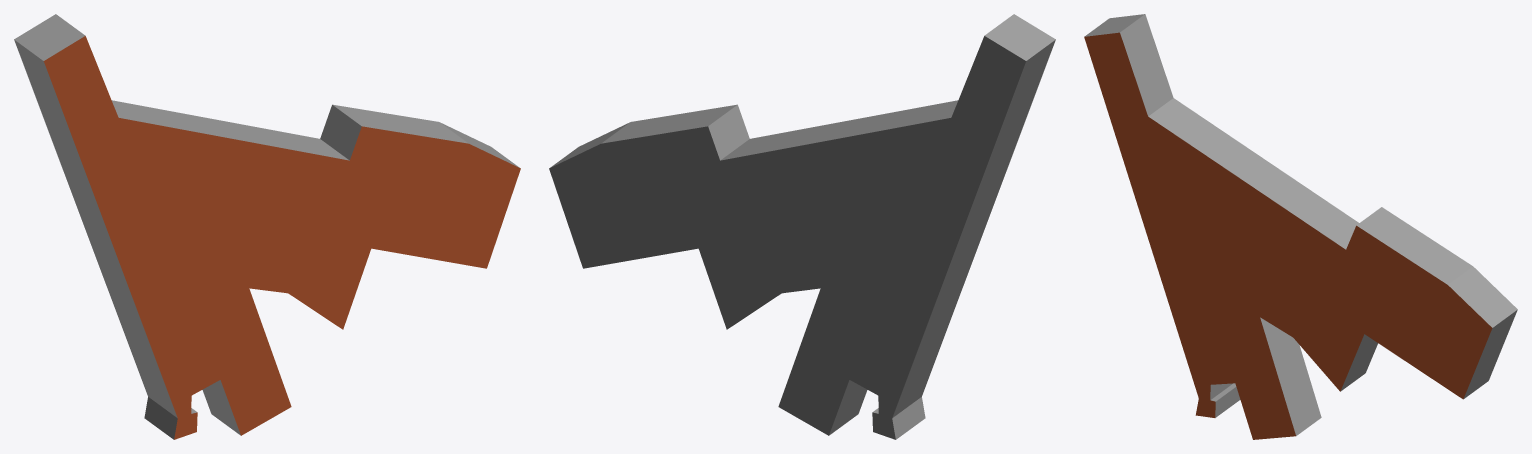
Rendered from construction_2341_assumed_A_Casa_h6m.obj.
The picture shows the model from 3 angles, left to right: view 1: azimuth 30°, elevation 25°; view 2: azimuth 150°, elevation 25°; view 3: azimuth 330°, elevation 25°; orthographic projection. The views are drawn at different scales.
Parts seen in each view (by area): view 1: construction_2341_assumed_A_Casa; view 2: construction_2341_assumed_A_Casa; view 3: construction_2341_assumed_A_Casa.
Boxes of the visible parts, x1,y1,x2,y2 form: construction_2341_assumed_A_Casa: (14,14,520,439); construction_2341_assumed_A_Casa: (549,14,1055,439); construction_2341_assumed_A_Casa: (1084,14,1517,439).
Size of the model in its own units: 55.67 by 48.84 by 6.
